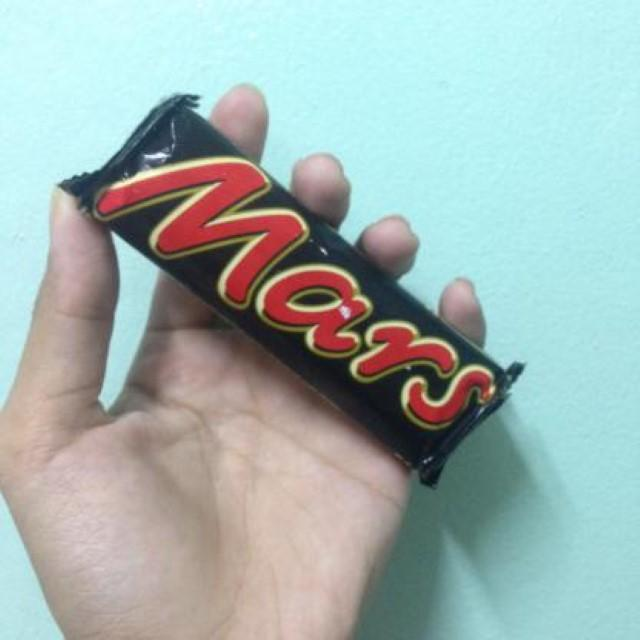mars_chocolate: (63, 107, 530, 470)
